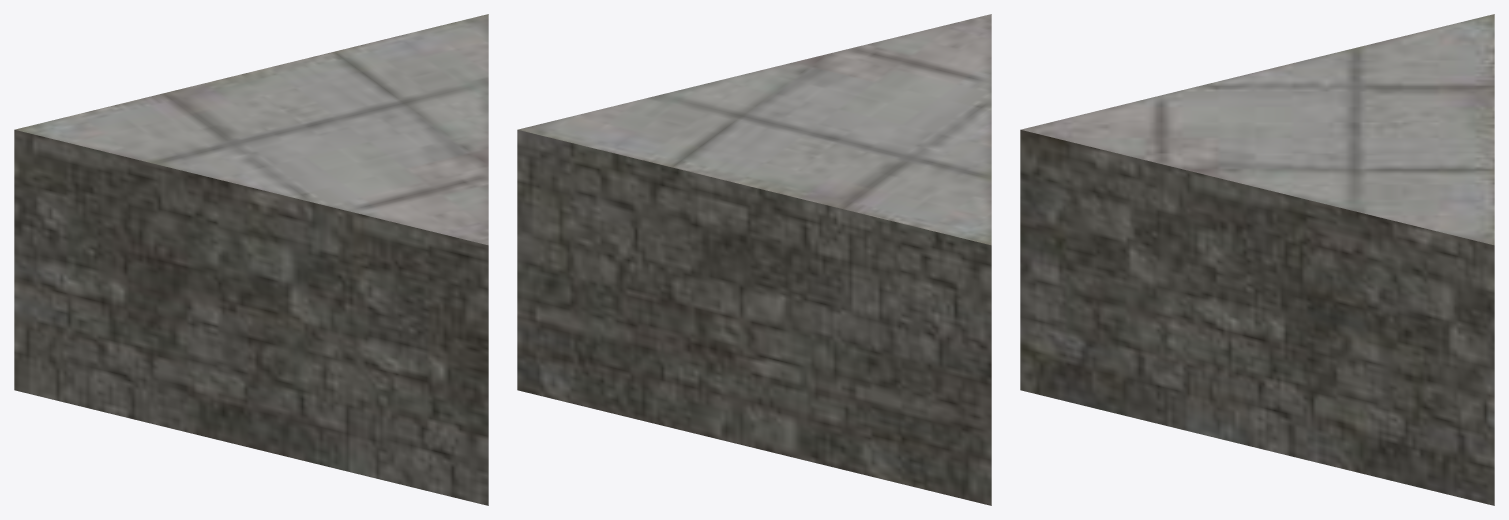
Rendered from stone_foundation_triangle_mid_textured.glb.
3 views of the same model, side by side, from view 1: azimuth 30°, elevation 25°; view 2: azimuth 150°, elevation 25°; view 3: azimuth 270°, elevation 25° (orthographic).
Visible parts, largest first — view 1: Circle; view 2: Circle; view 3: Circle.
Boxes of the visible parts, x1,y1,x2,y2 form: Circle: (14, 14, 488, 505); Circle: (517, 14, 991, 505); Circle: (1020, 14, 1494, 505).
Bounding box in the file's own units: 2 × 1.05 × 1.73.
1 material, 1 textured.
